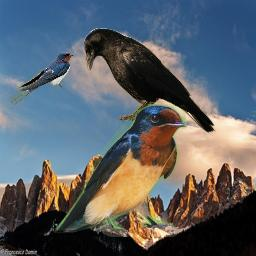Crow: (84, 28, 216, 133)
Swallow: (54, 104, 187, 237), (10, 52, 74, 105)
